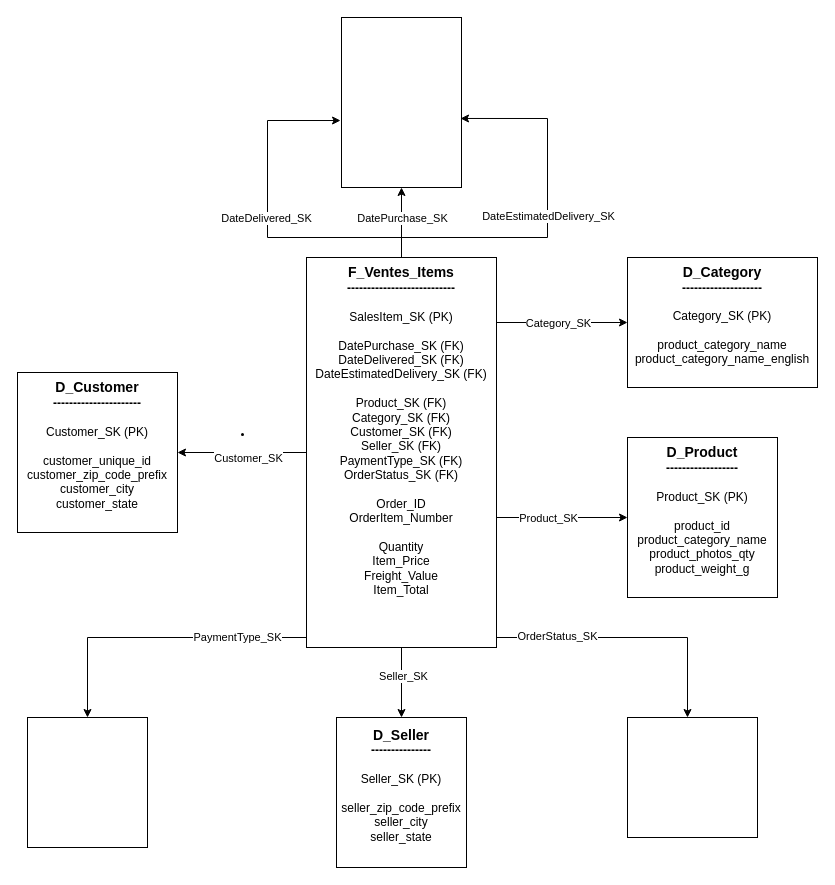
The diagram is 835 pixels wide and 885 high, and some of its shapes have lost their labels. The box of each missing label's shape, as (x1, y1, x2, y2) in pixels:
D_Date ------------- Date_SK (PK) FullDate Year Month Day DayOfWeek: (340, 16, 462, 188)
D_OrderStatus ------------------------- OrderStatus_SK (PK) order_status: (626, 716, 758, 838)
D_PaymentType --------------------------- PaymentType_SK (PK) payment_type: (26, 716, 148, 848)
